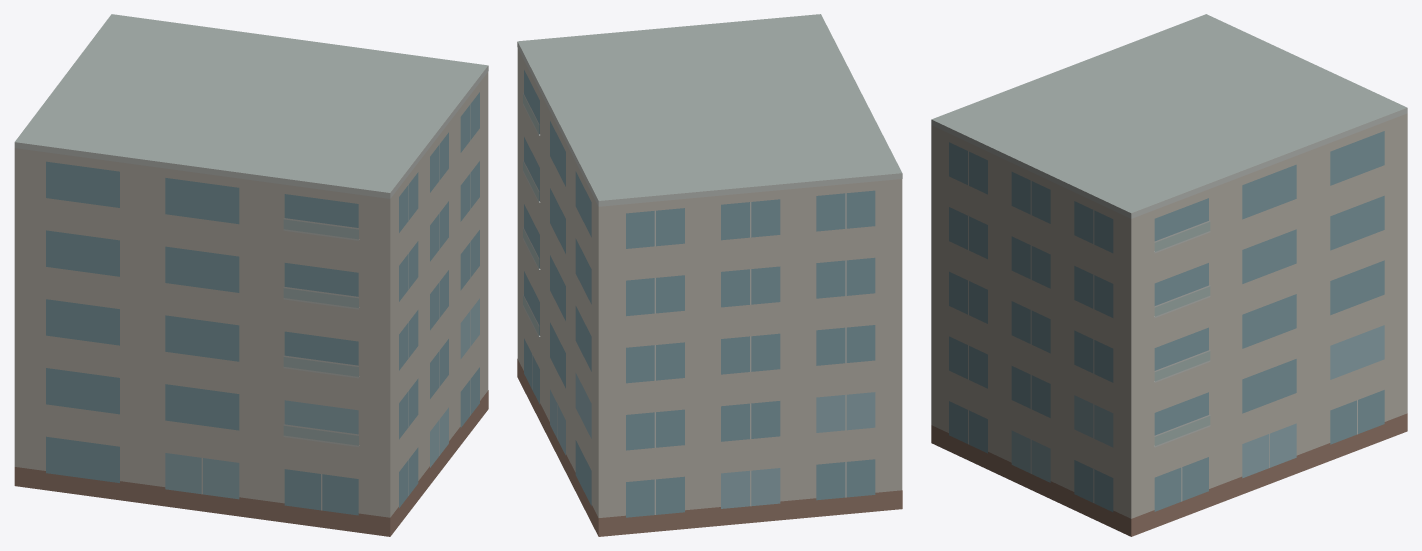
Rendered from survey-upis-32642253.glb.
3 views of the same model, side by side, from view 1: azimuth 30°, elevation 25°; view 2: azimuth 150°, elevation 25°; view 3: azimuth 270°, elevation 25° (orthographic). The views are drawn at different scales.
Visible parts, largest first — view 1: survey-upis-32642253.tmp; view 2: survey-upis-32642253.tmp; view 3: survey-upis-32642253.tmp.
Boxes of the visible parts, left/top/right/bottom form: survey-upis-32642253.tmp: left=14, top=14, right=488, bottom=536; survey-upis-32642253.tmp: left=517, top=14, right=902, bottom=536; survey-upis-32642253.tmp: left=931, top=14, right=1407, bottom=536.
Bounding box in the file's own units: 18.76 × 14.2 × 18.95.
